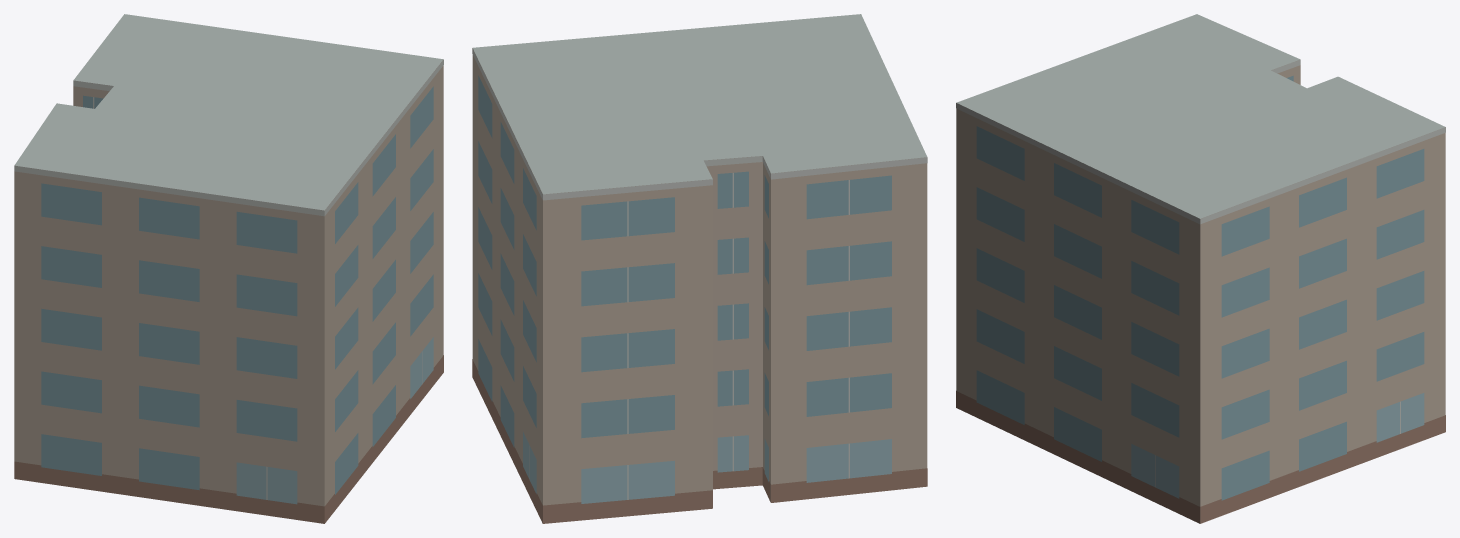
The model's file is survey-upis-32893356.glb.
3 renders of one model, left to right at view 1: azimuth 30°, elevation 25°; view 2: azimuth 150°, elevation 25°; view 3: azimuth 270°, elevation 25°, orthographic. The views are drawn at different scales.
Visible parts, largest first — view 1: survey-upis-32893356.tmp; view 2: survey-upis-32893356.tmp; view 3: survey-upis-32893356.tmp.
Part boxes in pixels (x1,y1,x2,y2): survey-upis-32893356.tmp: [14, 14, 443, 523]; survey-upis-32893356.tmp: [472, 14, 927, 523]; survey-upis-32893356.tmp: [956, 14, 1445, 523].
Size of the model in its own units: 19.01 by 13.2 by 19.2.
